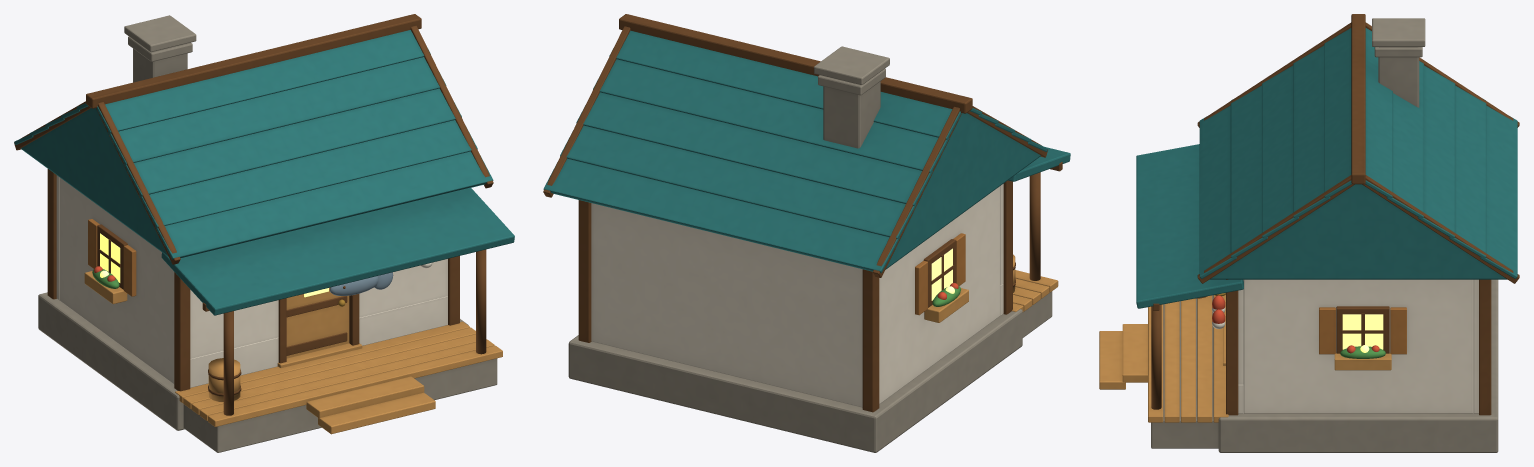
The model's file is house_artisan.glb.
3 renders of one model, left to right at view 1: azimuth 30°, elevation 25°; view 2: azimuth 150°, elevation 25°; view 3: azimuth 270°, elevation 25°, orthographic. The views are drawn at different scales.
Parts seen in each view (by area): view 1: Porch_Awning, ShingleRow_-1_0, Wall_Left, ShingleRow_-1_1, ShingleRow_-1_2, ShingleRow_-1_3, ShingleRow_-1_4, Roof_Gable, Foundation_Base, Porch_Skirt, Roof_RidgeBeam, PorchPlank_4 (+32 smaller); view 2: Wall_Back, Foundation_Base, ShingleRow_1_0, Wall_Left, ShingleRow_1_1, ShingleRow_1_2, ShingleRow_1_3, ShingleRow_1_4, Roof_Gable, Roof_RidgeBeam, Chimney_Shaft, CornerPost_-1_1 (+14 smaller); view 3: Wall_Right, Roof_Gable, Foundation_Base, Porch_Awning, ShingleRow_1_0, ShingleRow_-1_0, ShingleRow_1_1, ShingleRow_-1_1, ShingleRow_1_2, ShingleRow_-1_2, ShingleRow_-1_3, ShingleRow_-1_4 (+28 smaller).
Part boxes in pixels (<box>): Porch_Awning: <box>161,188,514,315</box>; ShingleRow_-1_0: <box>155,151,493,259</box>; Wall_Left: <box>59,177,174,384</box>; ShingleRow_-1_1: <box>139,120,477,227</box>; ShingleRow_-1_2: <box>123,88,461,196</box>; ShingleRow_-1_3: <box>108,57,446,164</box>; ShingleRow_-1_4: <box>96,30,430,133</box>; Roof_Gable: <box>21,108,484,258</box>; Foundation_Base: <box>38,292,468,430</box>; Porch_Skirt: <box>183,358,497,452</box>; Roof_RidgeBeam: <box>86,14,421,108</box>; PorchPlank_4: <box>208,345,502,426</box>; Wall_Back: <box>591,203,862,407</box>; Foundation_Base: <box>568,309,1022,452</box>; ShingleRow_1_0: <box>543,158,899,272</box>; Wall_Left: <box>879,186,1000,403</box>; ShingleRow_1_1: <box>560,125,916,238</box>; ShingleRow_1_2: <box>576,92,932,205</box>; ShingleRow_1_3: <box>593,59,949,172</box>; ShingleRow_1_4: <box>609,30,961,139</box>; Roof_Gable: <box>553,113,1040,271</box>; Roof_RidgeBeam: <box>619,14,972,113</box>; Chimney_Shaft: <box>823,81,880,148</box>; CornerPost_-1_1: <box>862,269,879,412</box>; Wall_Right: <box>1243,279,1473,413</box>; Roof_Gable: <box>1210,184,1507,279</box>; Foundation_Base: <box>1218,279,1498,452</box>; Porch_Awning: <box>1136,144,1243,308</box>; ShingleRow_1_0: <box>1480,105,1517,278</box>; ShingleRow_-1_0: <box>1199,105,1236,278</box>; ShingleRow_1_1: <box>1449,85,1486,258</box>; ShingleRow_-1_1: <box>1230,85,1267,257</box>; ShingleRow_1_2: <box>1418,65,1455,238</box>; ShingleRow_-1_2: <box>1262,65,1298,237</box>; ShingleRow_-1_3: <box>1293,45,1330,217</box>; ShingleRow_-1_4: <box>1324,28,1351,197</box>.
Size of the model in its own units: 4.27 by 3.94 by 4.72.
Materials: 3 (1 with a texture image).
